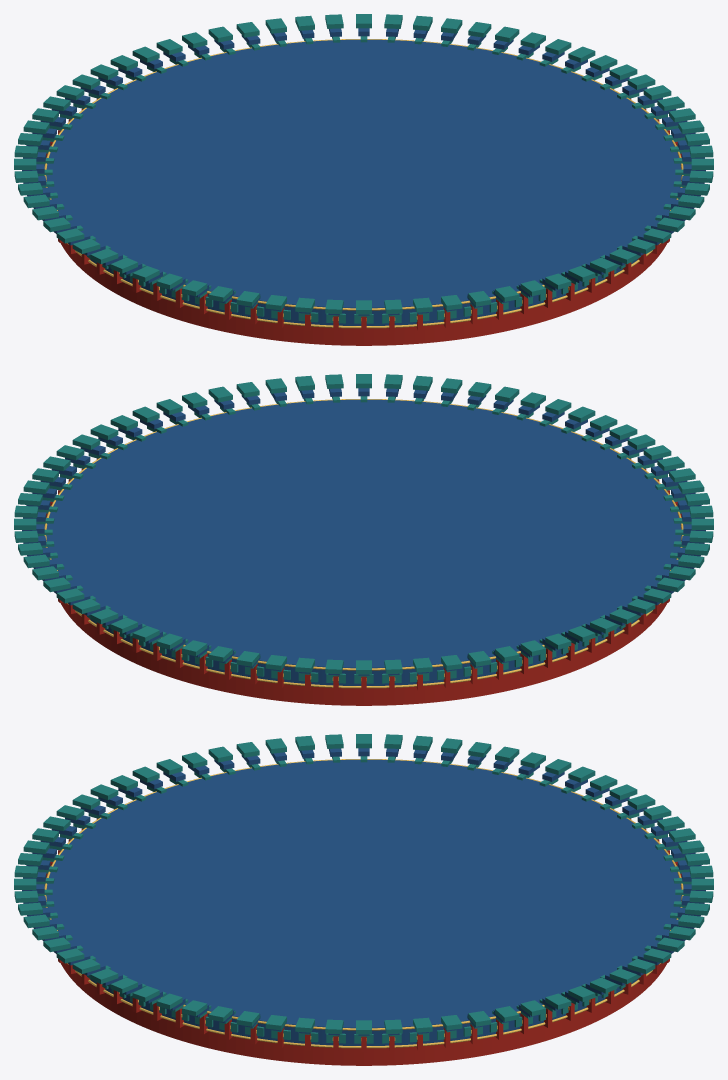
File: SM_04_Bracket_2.fbx
3 views of the same model, one above another, from view 1: azimuth 30°, elevation 25°; view 2: azimuth 150°, elevation 25°; view 3: azimuth 270°, elevation 25° (orthographic).
Visible parts, largest first — view 1: Bracket_2; view 2: Bracket_2; view 3: Bracket_2.
Part boxes in pixels (x1,y1,x2,y2): Bracket_2: (14, 14, 713, 345); Bracket_2: (14, 374, 713, 705); Bracket_2: (14, 734, 713, 1065).
Size of the model in its own units: 2492 by 2492 by 206.
